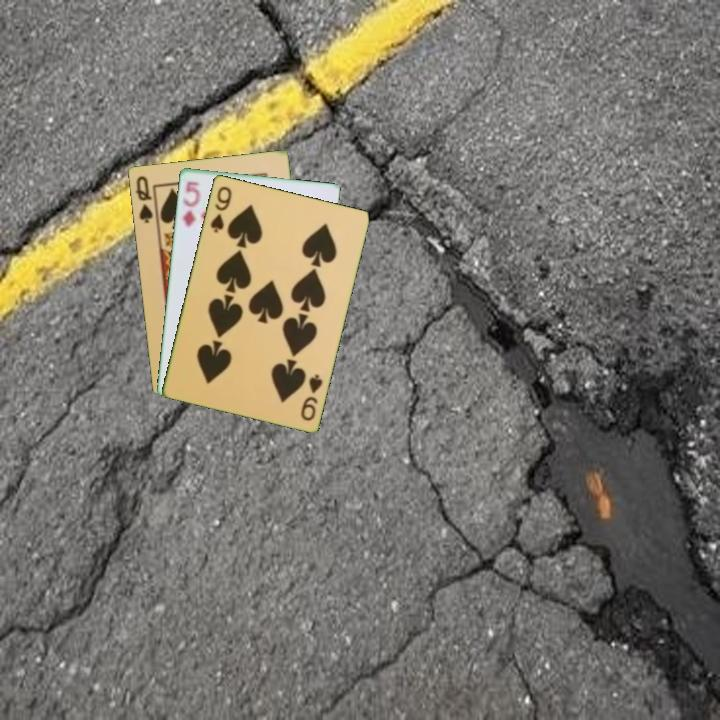5d: (179, 177, 203, 230)
9s: (206, 182, 234, 235), (297, 370, 325, 423)
Qs: (132, 172, 155, 226)
